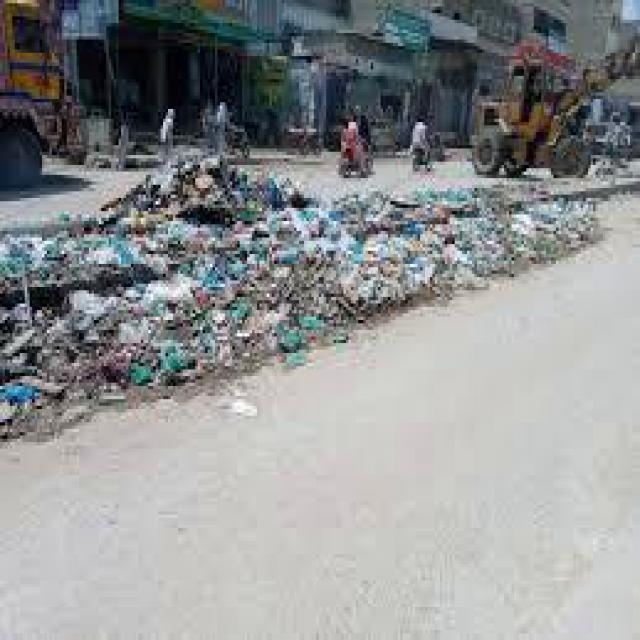garbage: (2, 215, 262, 392), (255, 188, 578, 280), (131, 162, 277, 224), (260, 280, 344, 330)
